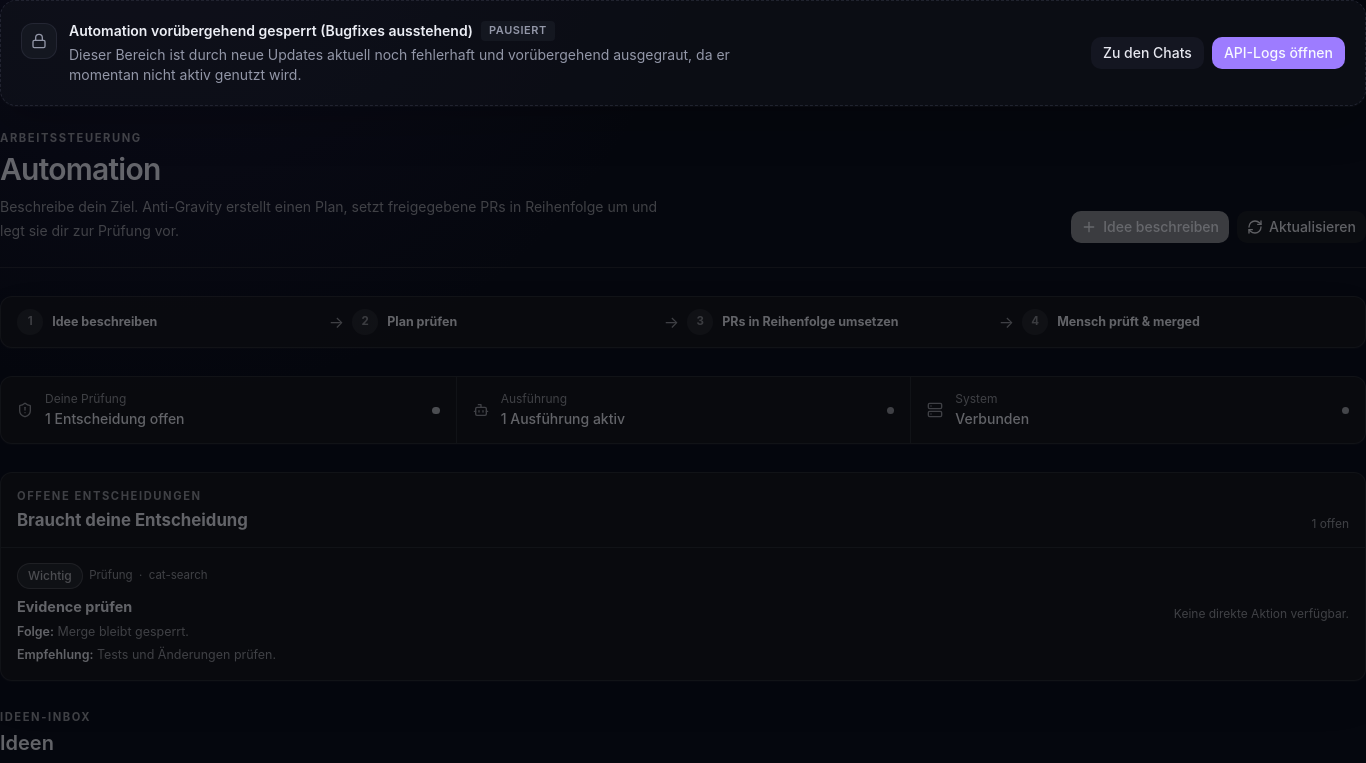
AutomationPage › opens the idea description dialog from the empty state
The image size is (1366, 763).
Click the button "Idee beschreiben": (1150,227) [1071,211,1229,243]
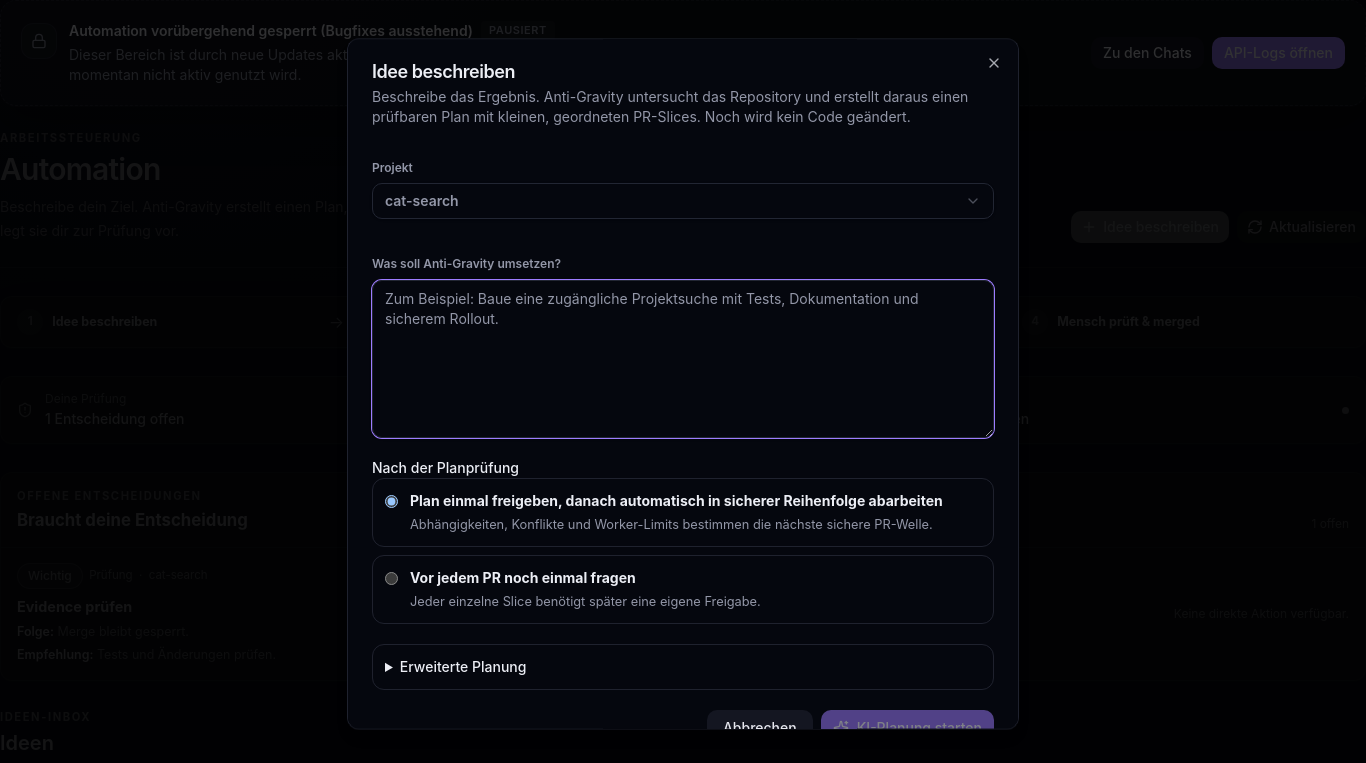
Expected: the dialog "Idee beschreiben" is shown, [347,38,1019,730]
Expected: the dropdown named "Projekt" is shown, [372,184,994,220]
Expected: the text box labelled "Was soll Anti-Gravity umsetzen?" is shown, [372,280,994,438]
